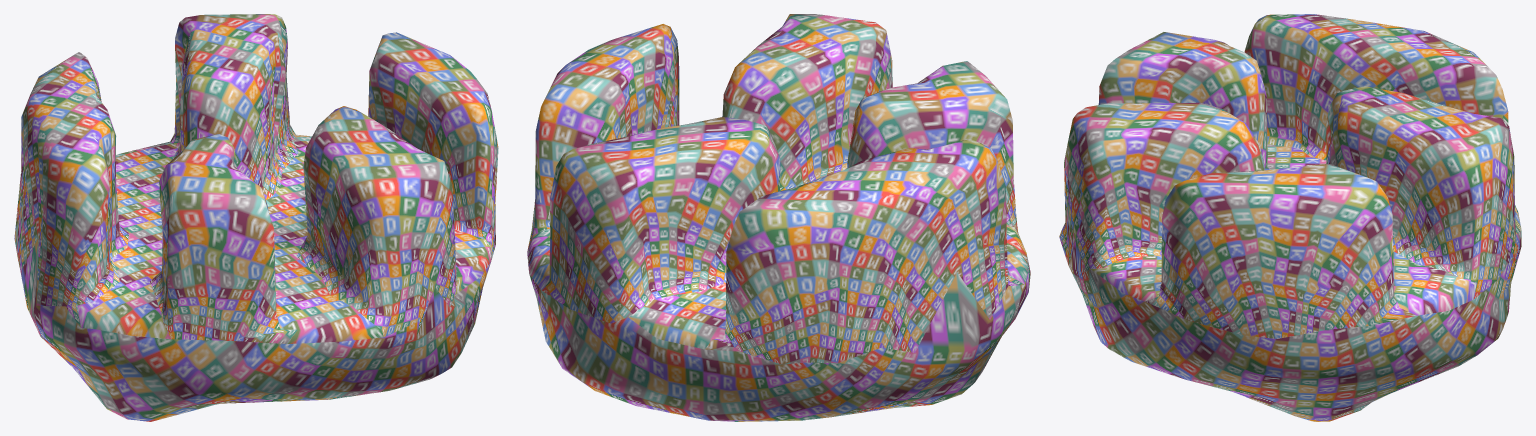
Rendered from island6Lo.obj.
3 views of the same model, side by side, from view 1: azimuth 30°, elevation 25°; view 2: azimuth 150°, elevation 25°; view 3: azimuth 270°, elevation 25° (orthographic). The views are drawn at different scales.
Parts seen in each view (by area): view 1: F3:GeoDome1_F3:GeoDome1_auv; view 2: F3:GeoDome1_F3:GeoDome1_auv; view 3: F3:GeoDome1_F3:GeoDome1_auv.
Boxes of the visible parts, x1,y1,x2,y2 form: F3:GeoDome1_F3:GeoDome1_auv: [14, 14, 498, 421]; F3:GeoDome1_F3:GeoDome1_auv: [527, 14, 1030, 421]; F3:GeoDome1_F3:GeoDome1_auv: [1059, 14, 1521, 421].
Size of the model in its own units: 2.02 by 1.36 by 2.
Materials: 1 (1 with a texture image).
